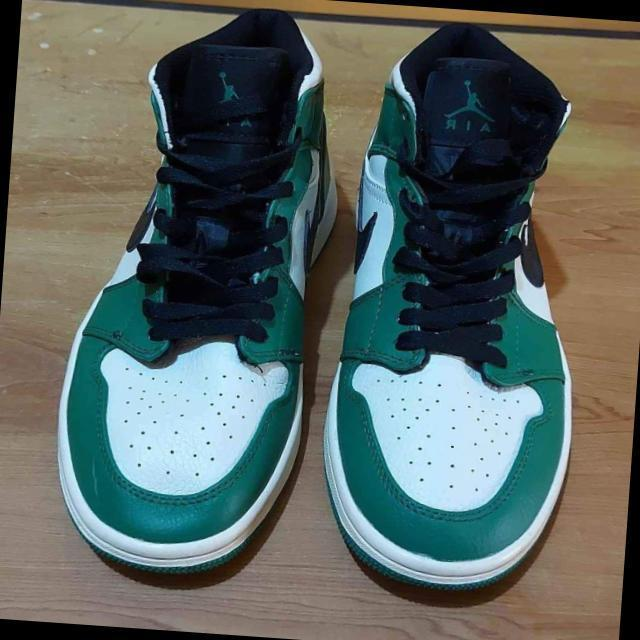nike fake jordan 1: (39, 0, 354, 589), (308, 16, 600, 601)
